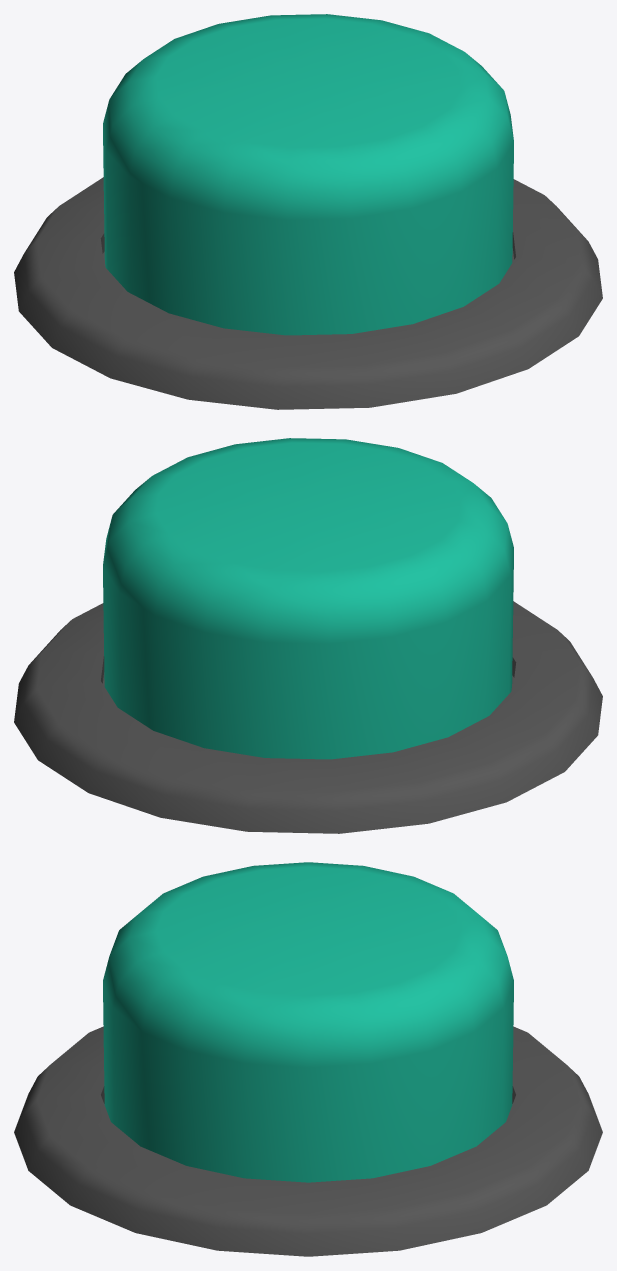
The model's file is button1.glb.
3 renders of one model, top to bottom at view 1: azimuth 30°, elevation 25°; view 2: azimuth 150°, elevation 25°; view 3: azimuth 270°, elevation 25°, orthographic.
Parts seen in each view (by area): view 1: SM_SimpleButton_B.001, SM_SimpleButton_Base_B.001; view 2: SM_SimpleButton_B.001, SM_SimpleButton_Base_B.001; view 3: SM_SimpleButton_B.001, SM_SimpleButton_Base_B.001.
Boxes of the visible parts, x1=… form: SM_SimpleButton_B.001: x1=103, y1=14, x2=513, y2=335; SM_SimpleButton_Base_B.001: x1=14, y1=177, x2=602, y2=409; SM_SimpleButton_B.001: x1=103, y1=438, x2=513, y2=759; SM_SimpleButton_Base_B.001: x1=14, y1=601, x2=602, y2=833; SM_SimpleButton_B.001: x1=103, y1=862, x2=513, y2=1182; SM_SimpleButton_Base_B.001: x1=14, y1=1026, x2=602, y2=1256.
Size of the model in its own units: 24.07 by 9.07 by 24.07.
